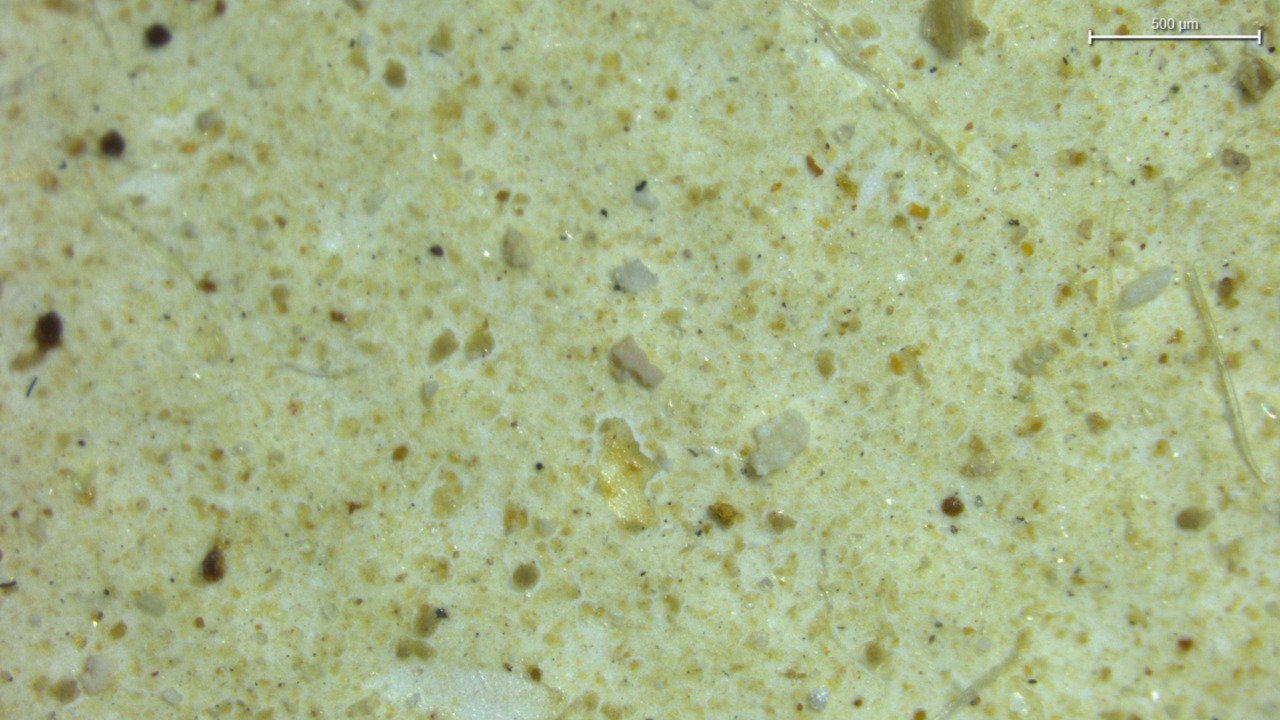microplastic_fragment: (745, 412, 809, 477), (611, 337, 663, 388), (1118, 266, 1175, 310), (612, 259, 658, 293)
